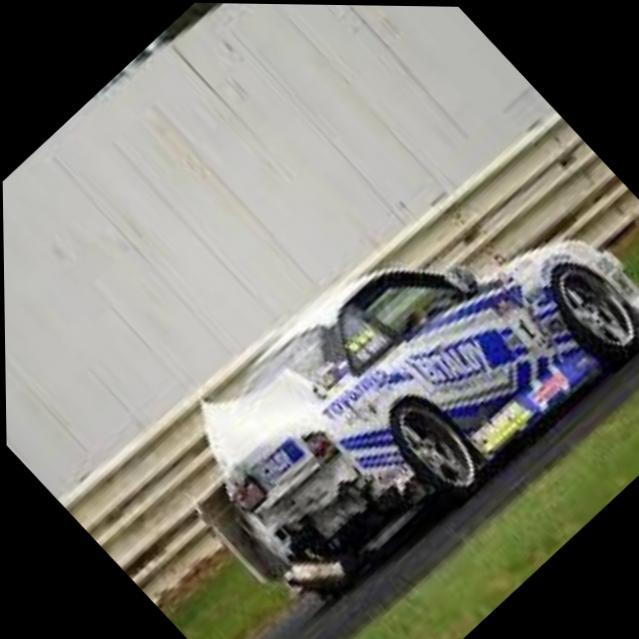crash: (191, 369, 404, 586)
